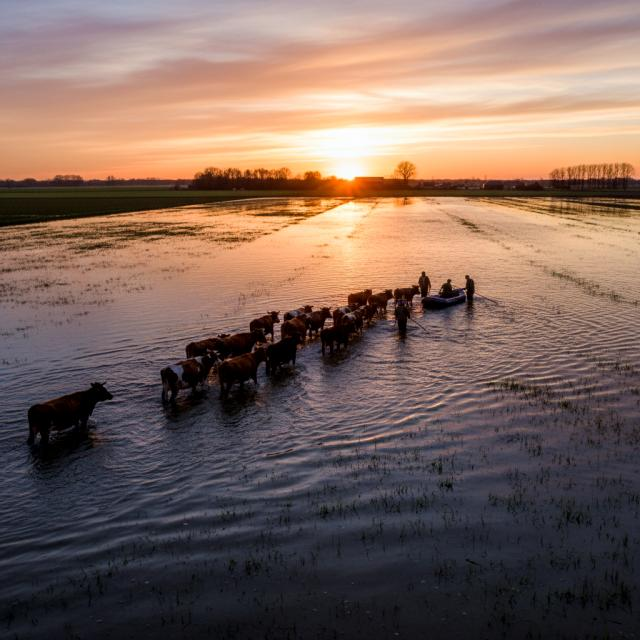civilian: (393, 296, 411, 336), (417, 268, 434, 302), (462, 272, 478, 306), (436, 278, 454, 299)
cow: (21, 376, 117, 448), (156, 350, 222, 406), (213, 345, 274, 394), (316, 316, 357, 357), (214, 327, 268, 358), (265, 332, 305, 373), (245, 307, 282, 345), (184, 333, 233, 358), (280, 313, 315, 344), (302, 304, 332, 336), (341, 307, 369, 338), (280, 299, 318, 321), (367, 286, 393, 316), (390, 283, 421, 308), (330, 301, 358, 326), (344, 287, 373, 308)
